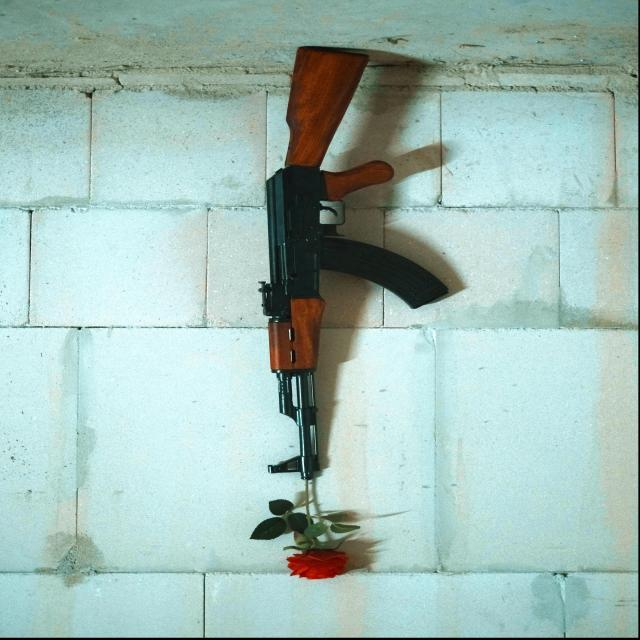weapon: (256, 44, 452, 481)
